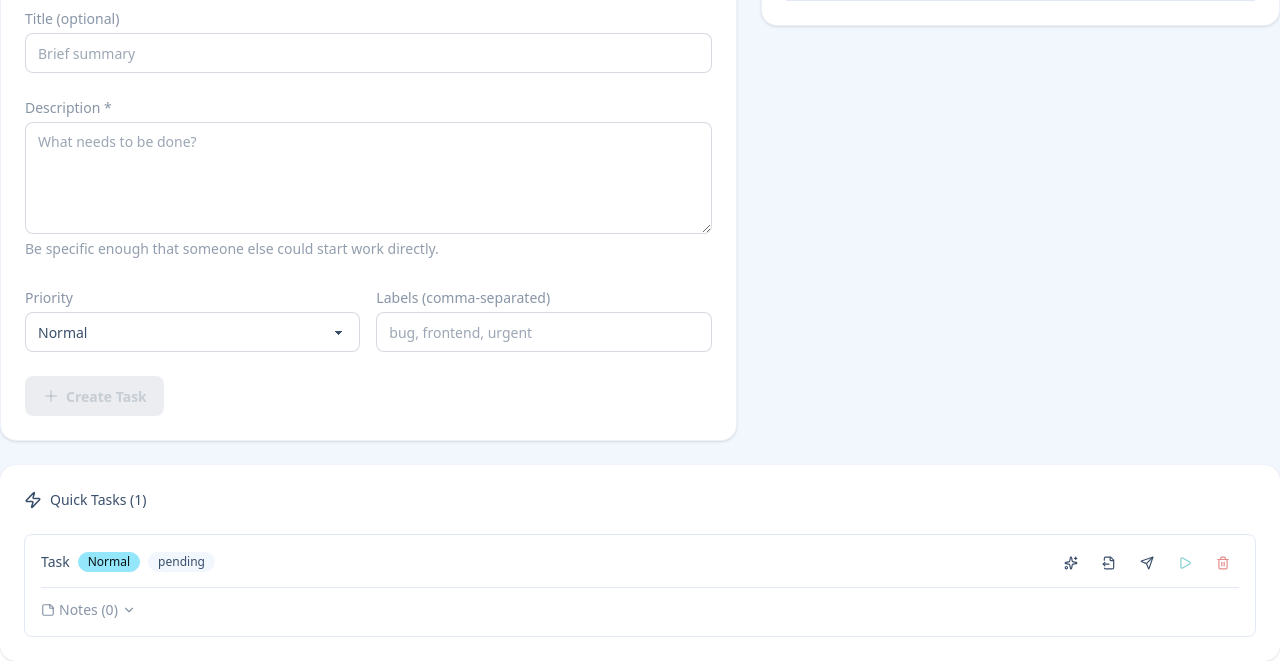
Quick page › opens delete confirmation when delete button clicked
This screenshot has width=1280, height=661.
(page scrolled)
Click the button named "Delete task". click: (1223, 563)
box: [1207,551,1239,575]
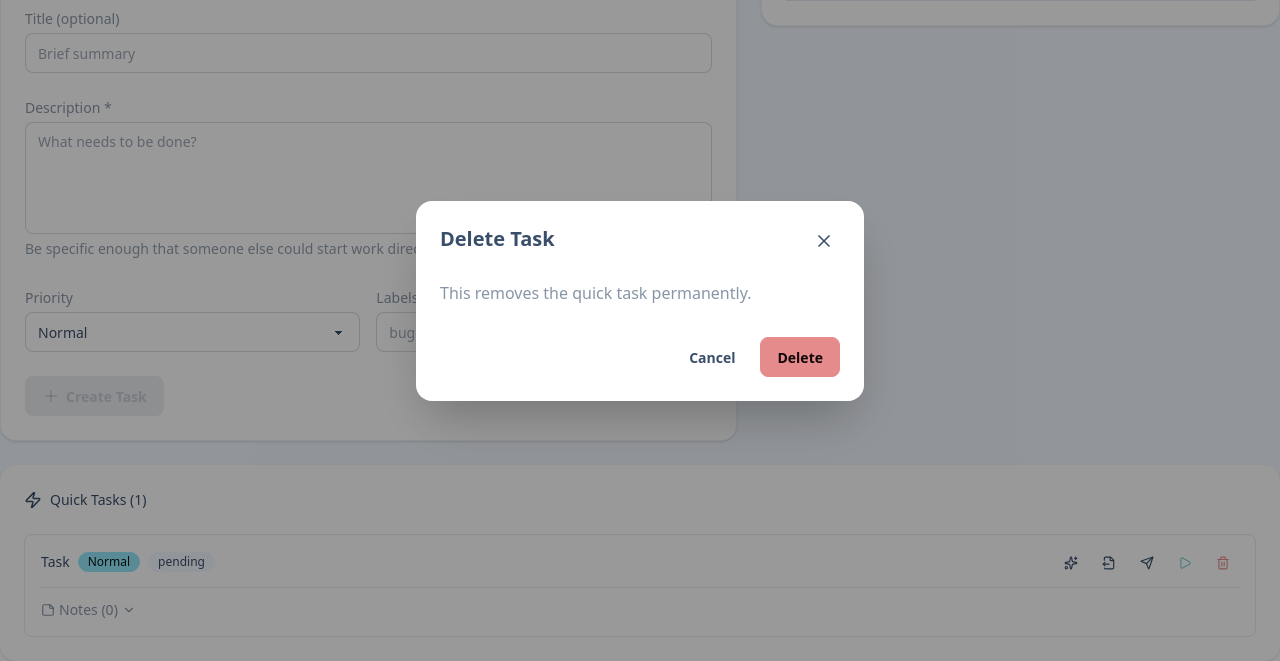
Now the text "This removes the quick task permanently." is shown, box [440,282,752,304]
